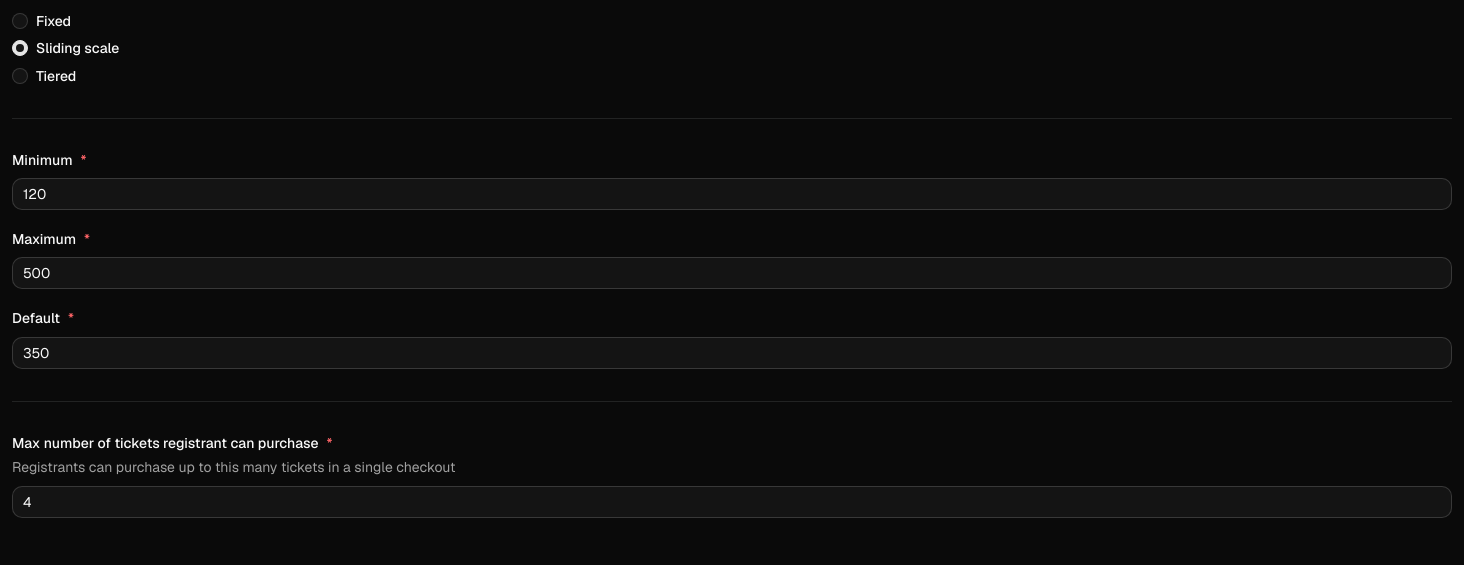
Scenario: AdmissionsForm › shared fields › requires a max ticket quantity
This screenshot has width=1464, height=565.
Clear the number field with id "admissions-quantity-max" at [732, 502], box [12,486,1452,518]
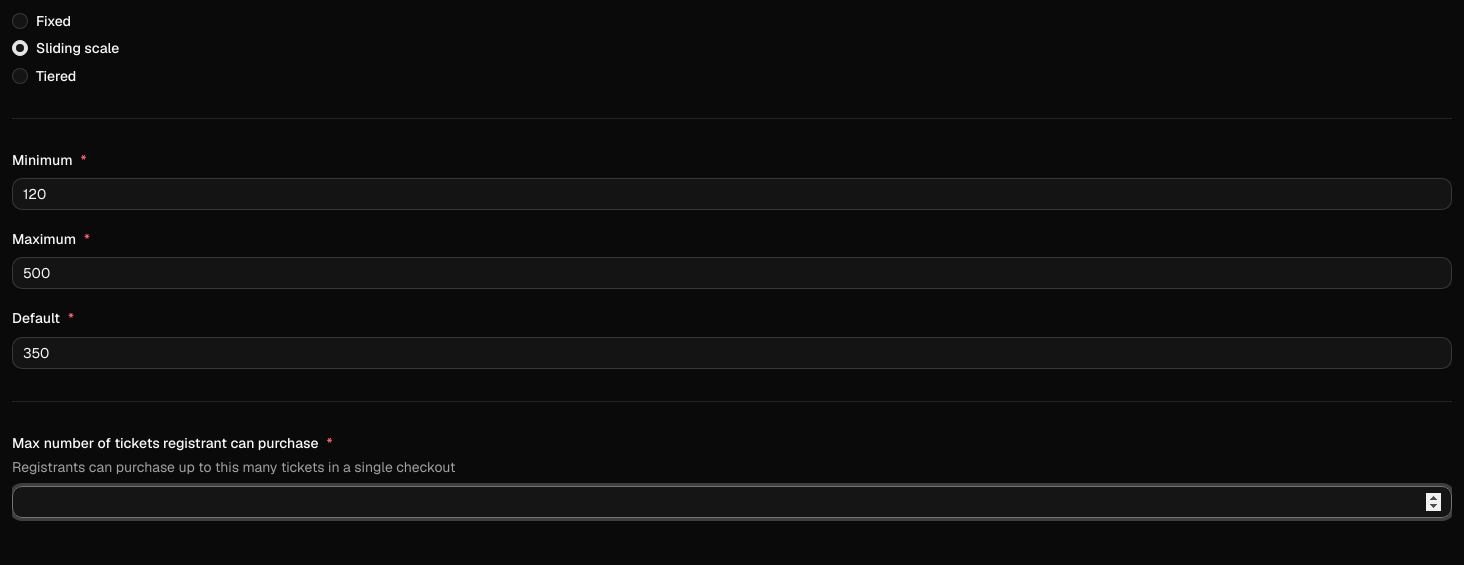
Press Tab
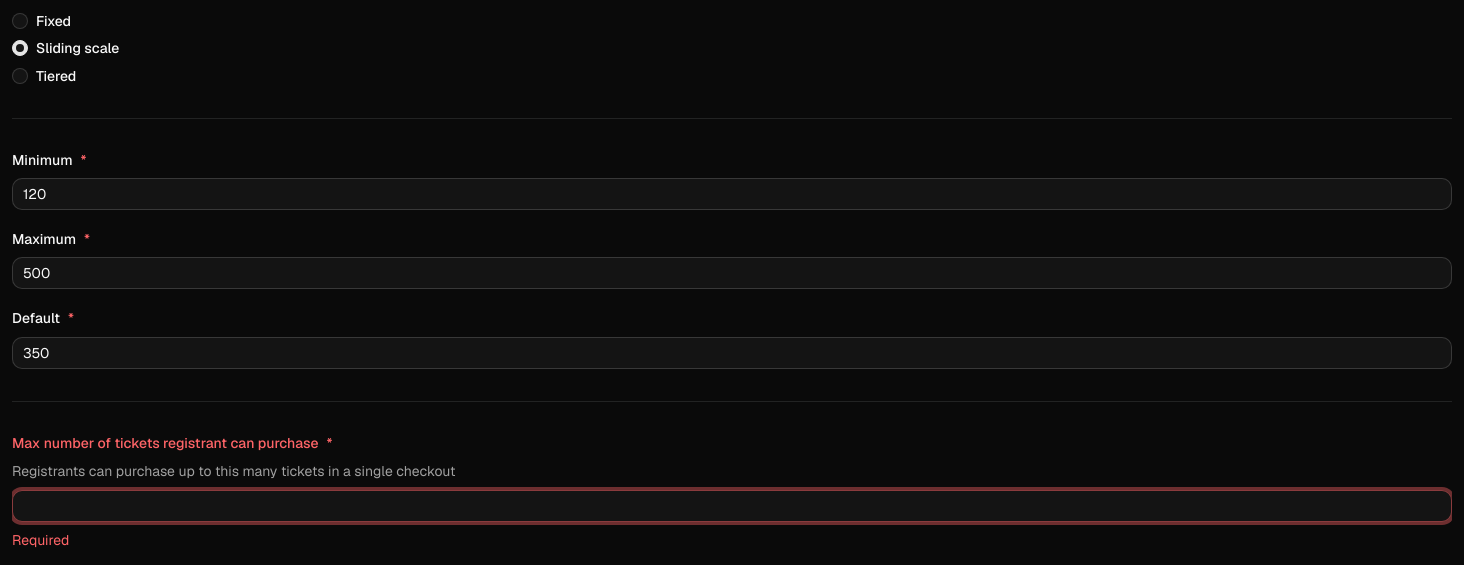
Check: the message reads "Required", box [12,531,69,549]
